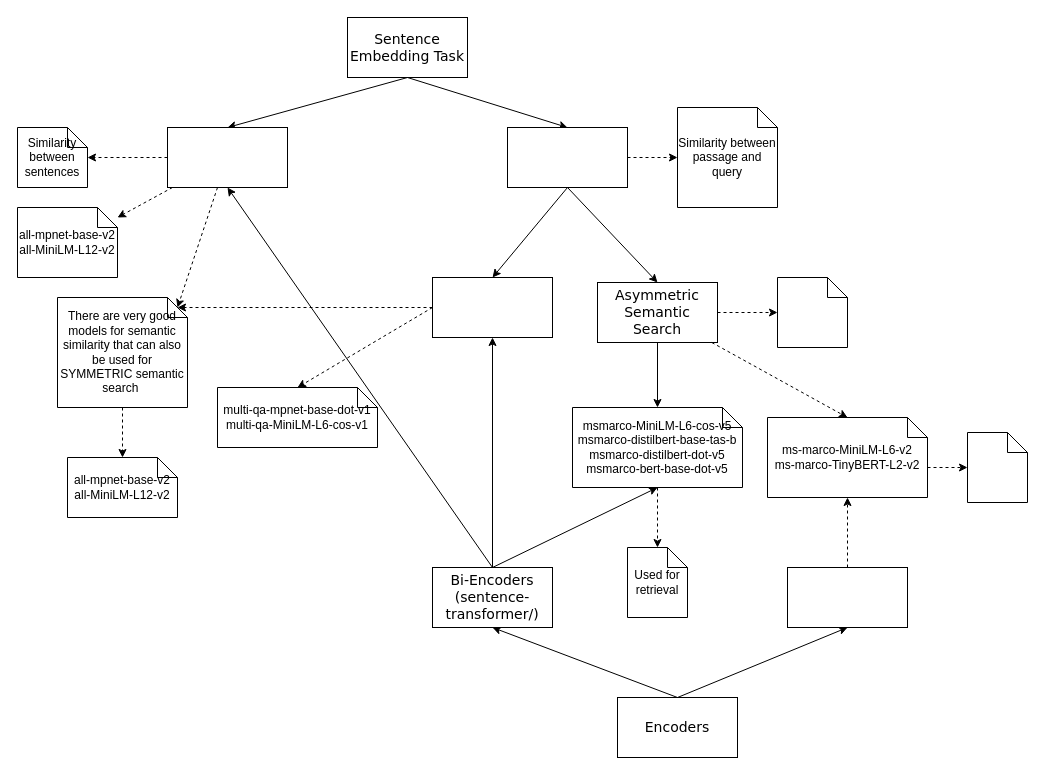
This 1045x775 diagram has some shape labels left out. The centre of each missing label's shape, as x and y in pixels:
Cross-Encoders (cross-encoder/): point (847, 597)
MS-Marco models: point (812, 312)
Semantic Search: point (567, 157)
Semantic Similarity: point (227, 157)
Symmetric Semantic Search: point (492, 307)
Used for reranking: point (997, 467)
